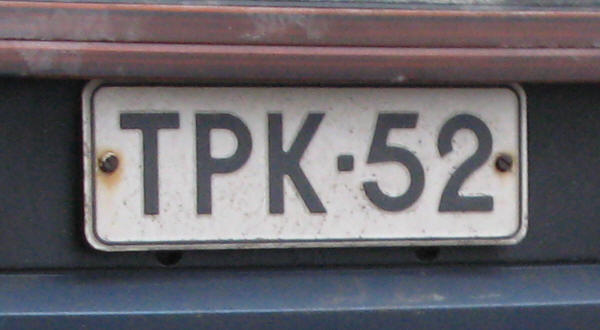license_plate: (89, 82, 524, 246)
